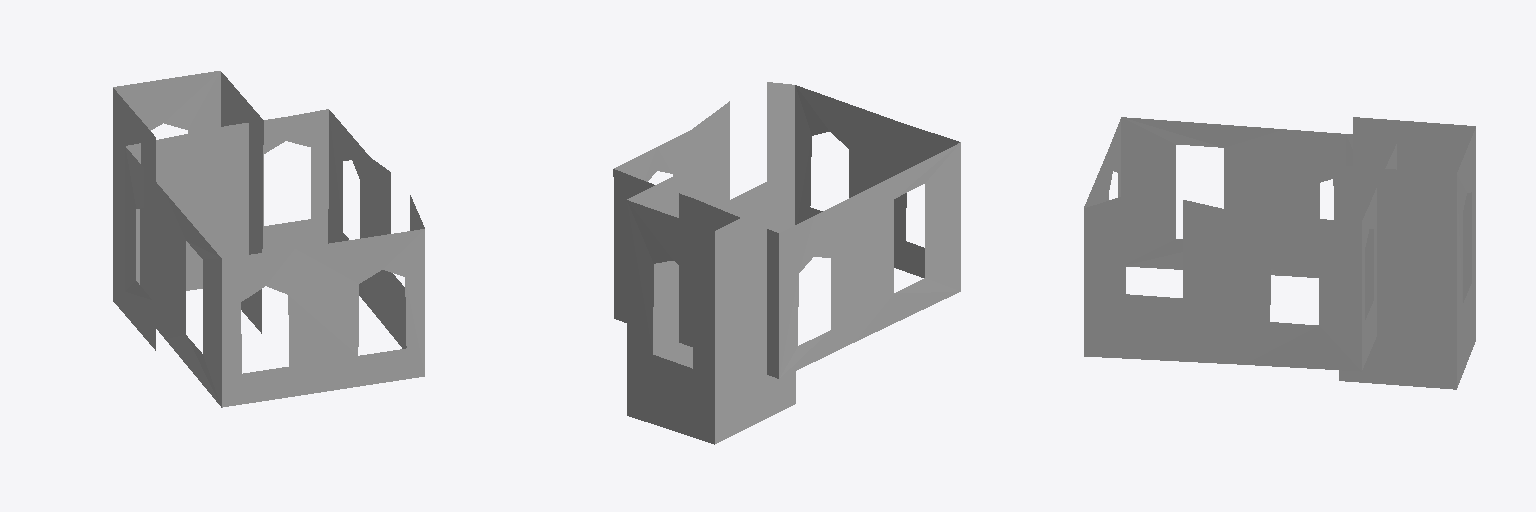
File: venice_29.obj
3 views of the same model, side by side, from view 1: azimuth 30°, elevation 25°; view 2: azimuth 150°, elevation 25°; view 3: azimuth 270°, elevation 25° (orthographic).
Bounding box in the file's own units: 5.37 × 4.87 × 8.04.